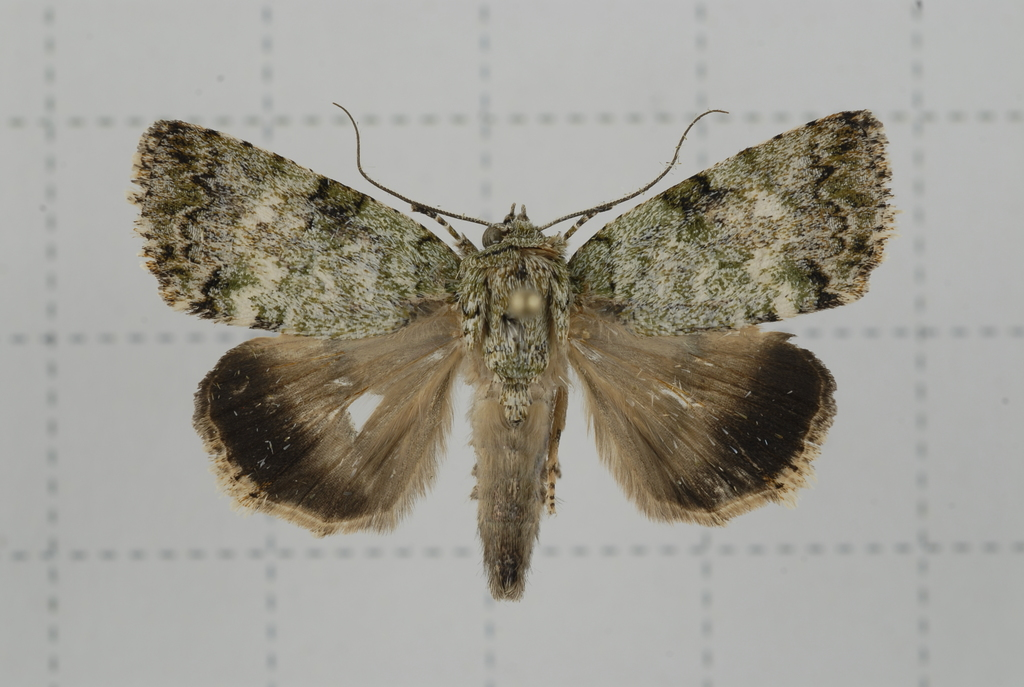Butterfly: (141, 109, 893, 601)
